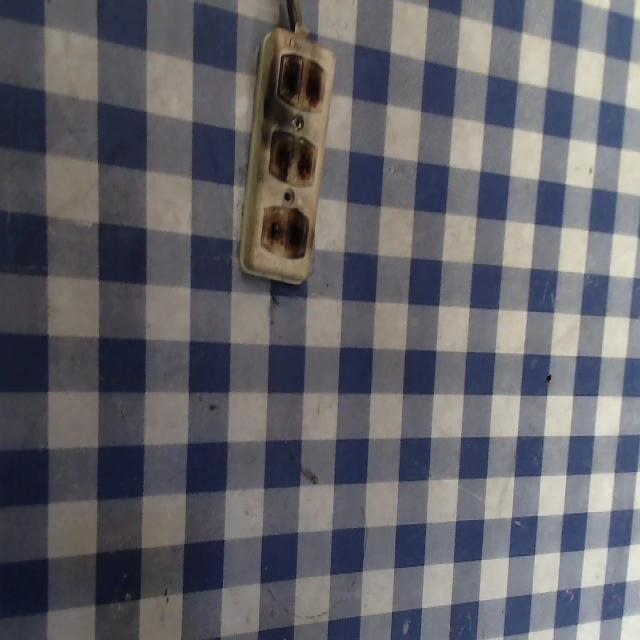-: (251, 193, 317, 272), (276, 45, 339, 120), (261, 131, 328, 192)
